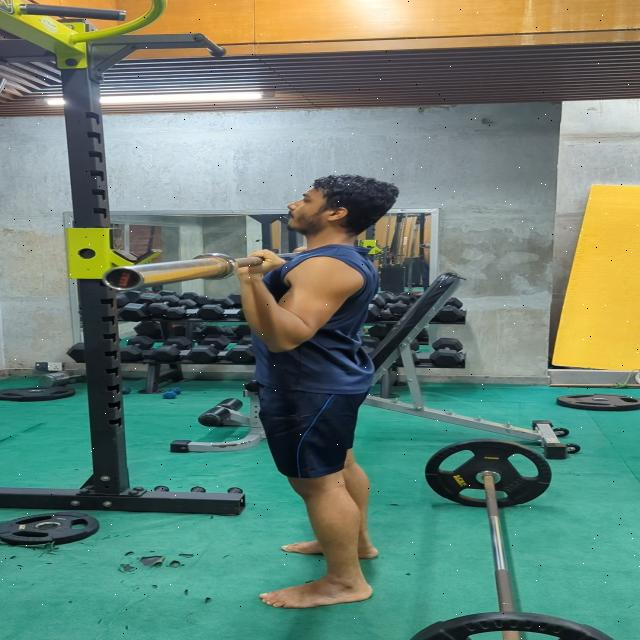Normal_OverheadPress: (187, 162, 447, 622)
